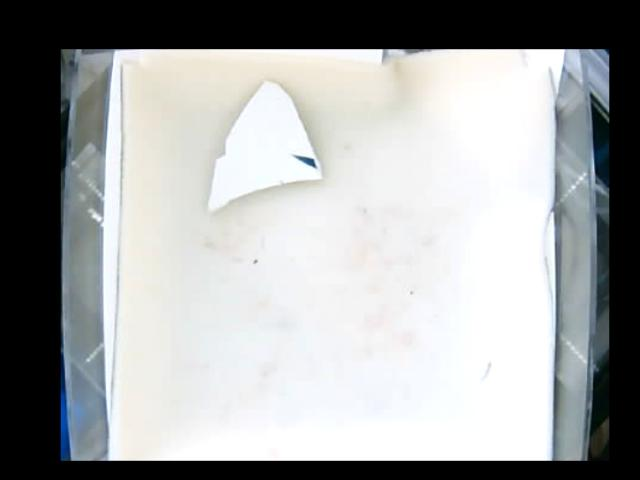China: (201, 80, 322, 211)
